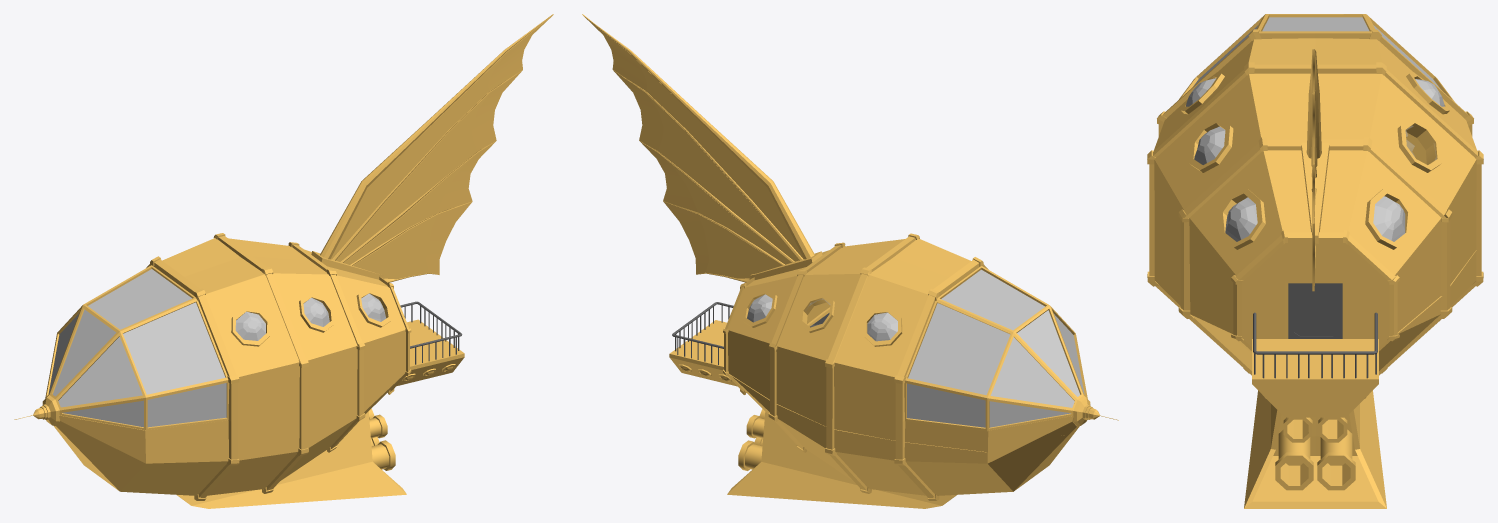
Rendered from nave_nueva.fbx.
The picture shows the model from 3 angles, left to right: view 1: azimuth 30°, elevation 25°; view 2: azimuth 150°, elevation 25°; view 3: azimuth 270°, elevation 25°; orthographic projection. The views are drawn at different scales.
Visible parts, largest first — view 1: Nave_espacial, Aleta, Vidrio_Nave, Estructura_cabina, cupulas; view 2: Nave_espacial, Aleta, Vidrio_Nave, Estructura_cabina, cupulas; view 3: Nave_espacial, cupulas, Vidrio_Nave, Aleta, Puerta_6, Puerta_7, Estructura_cabina.
Part boxes in pixels (bbox=[...]): Nave_espacial: bbox=[53, 233, 464, 508]; Aleta: bbox=[320, 14, 553, 282]; Vidrio_Nave: bbox=[48, 269, 226, 427]; Estructura_cabina: bbox=[14, 265, 229, 430]; cupulas: bbox=[235, 293, 386, 340]; Nave_espacial: bbox=[669, 233, 1079, 508]; Aleta: bbox=[582, 14, 814, 282]; Vidrio_Nave: bbox=[907, 269, 1084, 427]; Estructura_cabina: bbox=[904, 266, 1118, 431]; cupulas: bbox=[747, 294, 897, 341]; Nave_espacial: bbox=[1147, 29, 1483, 508]; cupulas: bbox=[1186, 78, 1444, 241]; Vidrio_Nave: bbox=[1193, 17, 1440, 89]; Aleta: bbox=[1306, 49, 1321, 291]; Puerta_6: bbox=[1288, 283, 1316, 338]; Puerta_7: bbox=[1316, 283, 1342, 338]; Estructura_cabina: bbox=[1179, 14, 1454, 101].
Size of the model in its own units: 3169 by 2362 by 1254.
